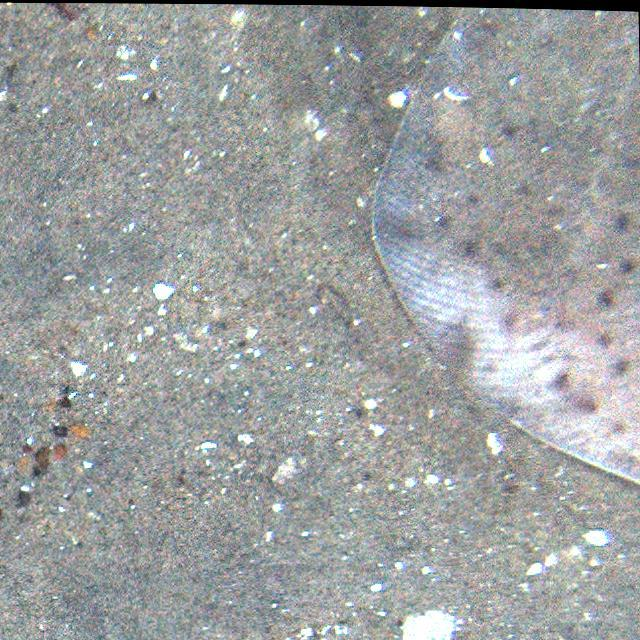flatfish: (363, 3, 640, 486)
